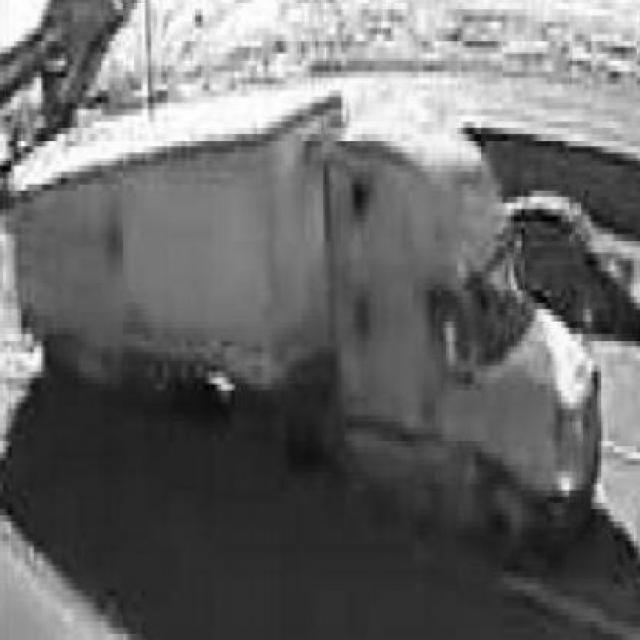Tractor Trailer: (9, 89, 599, 571)
